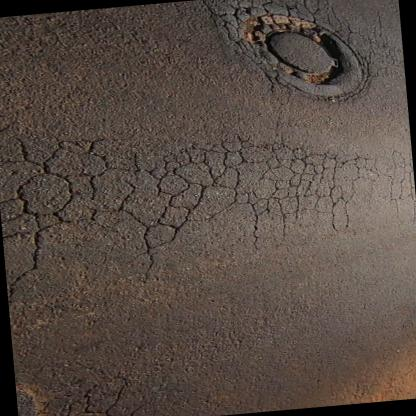manholes: (231, 9, 364, 108)
